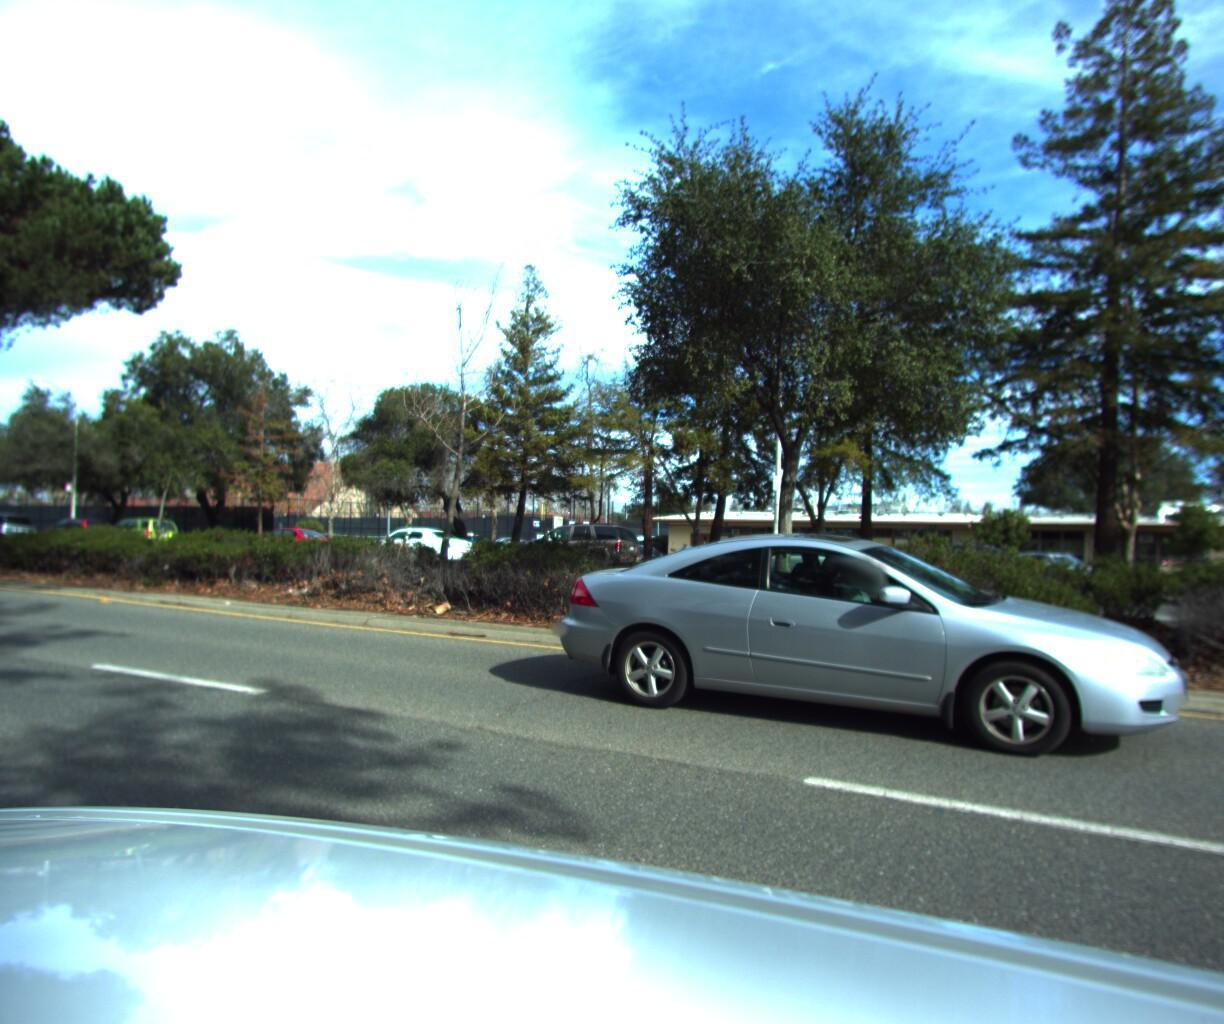car: (545, 510, 1174, 774), (852, 536, 1047, 603), (693, 529, 849, 587), (503, 516, 647, 567), (350, 518, 482, 566), (237, 521, 348, 563), (1180, 534, 1224, 621), (90, 513, 184, 549), (0, 507, 39, 545)
